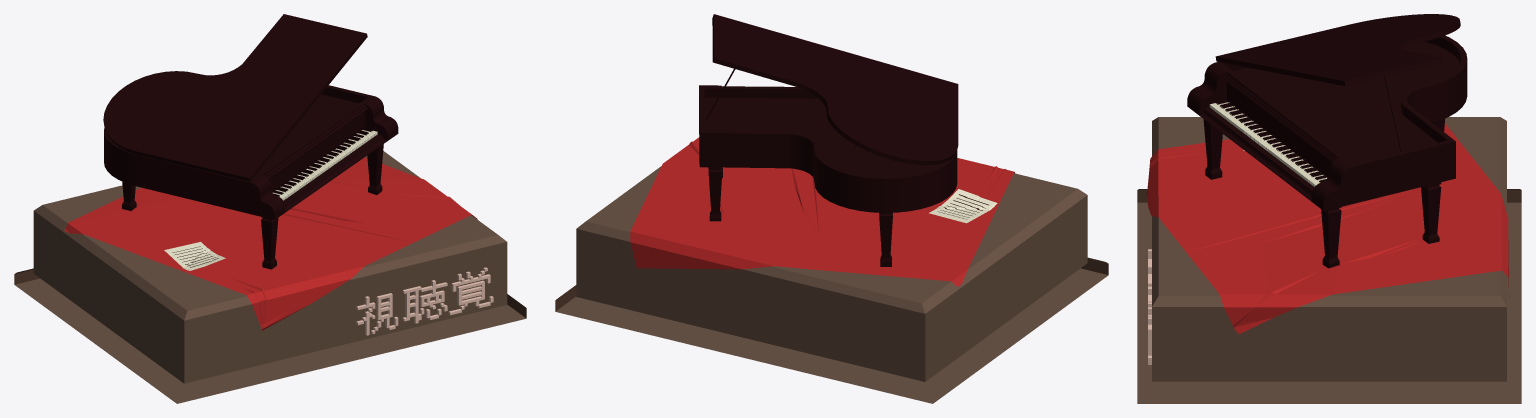
The model's file is piano2.glb.
3 views of the same model, side by side, from view 1: azimuth 30°, elevation 25°; view 2: azimuth 150°, elevation 25°; view 3: azimuth 270°, elevation 25° (orthographic). The views are drawn at different scales.
Parts seen in each view (by area): view 1: 平面, NURBSパス, 平面.001, 平面.004, 平面.003; view 2: 平面, NURBSパス, 平面.001, 平面.003; view 3: 平面, NURBSパス, 平面.001, 平面.004.
Boxes of the visible parts, <box> form: 平面: <box>14,151,526,403</box>; NURBSパス: <box>103,14,398,269</box>; 平面.001: <box>64,157,477,330</box>; 平面.004: <box>356,267,493,335</box>; 平面.003: <box>164,242,225,270</box>; 平面: <box>555,166,1108,403</box>; NURBSパス: <box>699,14,958,266</box>; 平面.001: <box>630,137,1014,286</box>; 平面.003: <box>929,189,997,223</box>; 平面: <box>1137,117,1521,403</box>; NURBSパス: <box>1187,14,1467,268</box>; 平面.001: <box>1146,123,1509,334</box>; 平面.004: <box>1148,249,1151,364</box>.
Size of the model in its own units: 7.97 by 5.19 by 6.43.
